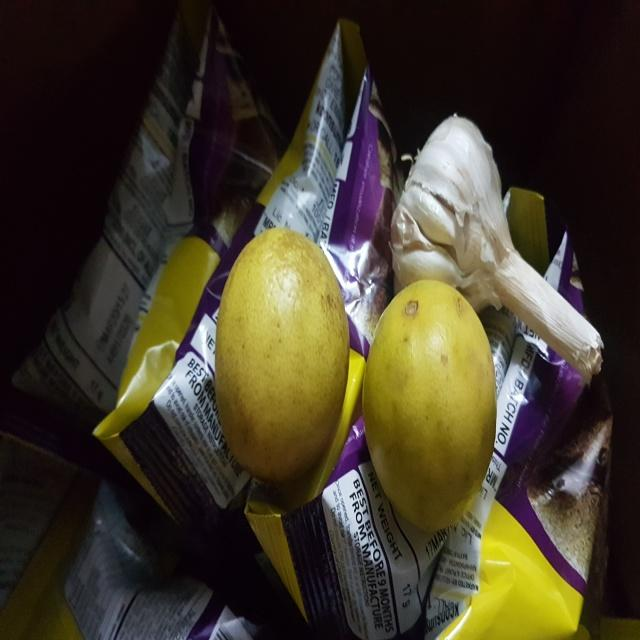lemon: (201, 222, 357, 493), (361, 262, 505, 545)
